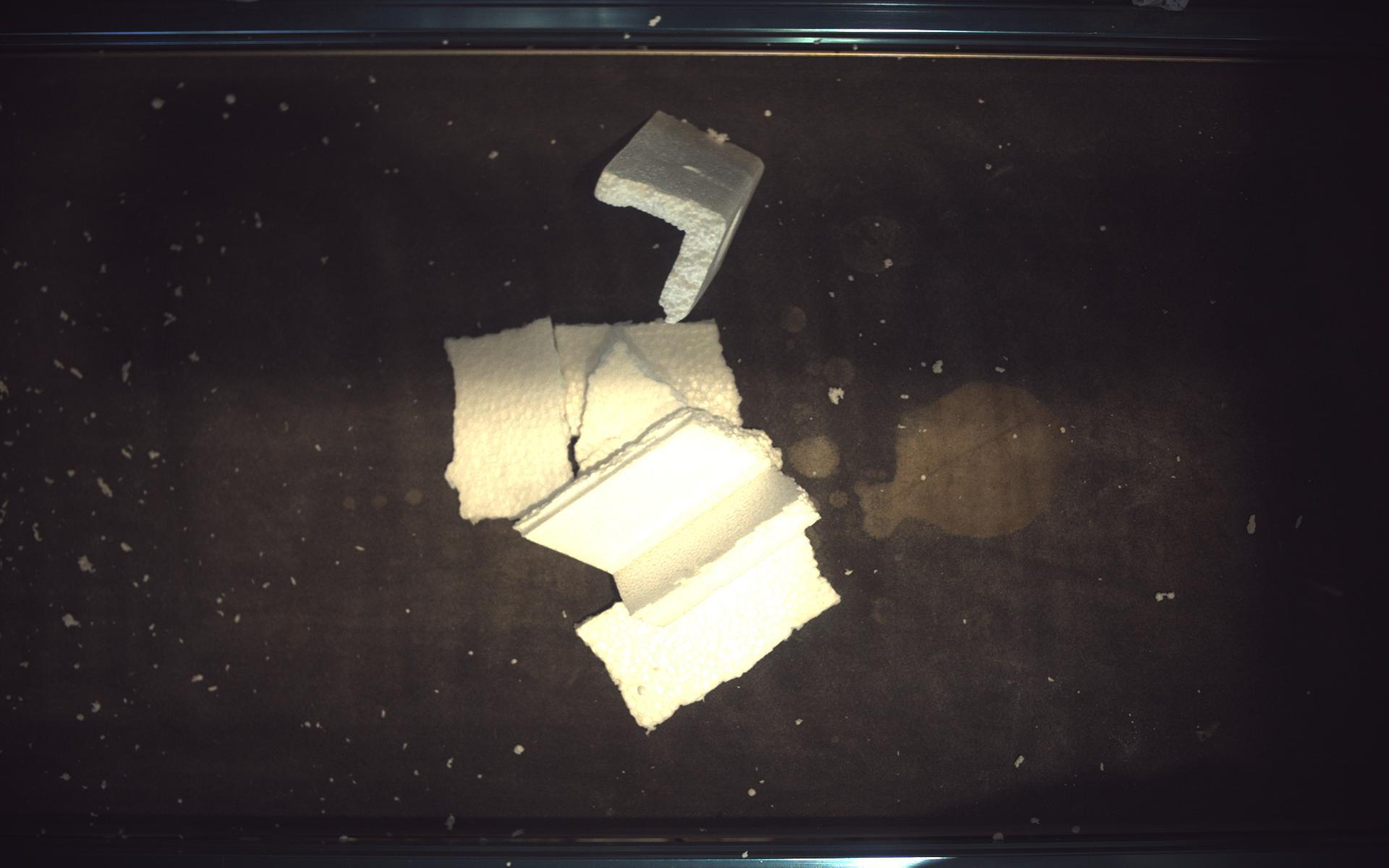foam: (516, 407, 819, 628), (577, 535, 840, 731), (596, 109, 765, 323), (445, 318, 574, 524), (554, 320, 742, 436), (576, 341, 687, 471)
